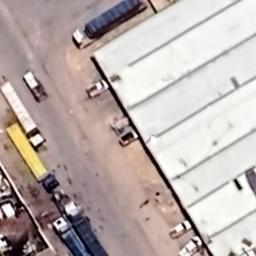truck: (68, 0, 150, 50), (4, 122, 60, 192), (0, 78, 46, 150), (61, 199, 111, 256), (51, 215, 88, 256), (20, 70, 50, 104)
van: (84, 78, 110, 102), (169, 218, 192, 240), (118, 129, 140, 149)
